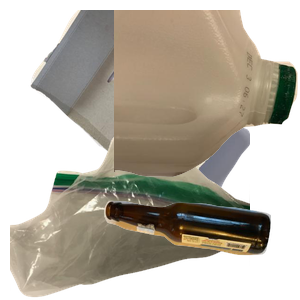glass: (101, 198, 300, 300)
paper: (28, 10, 268, 190)
plastic: (114, 10, 300, 179)
trash: (10, 134, 250, 300)
